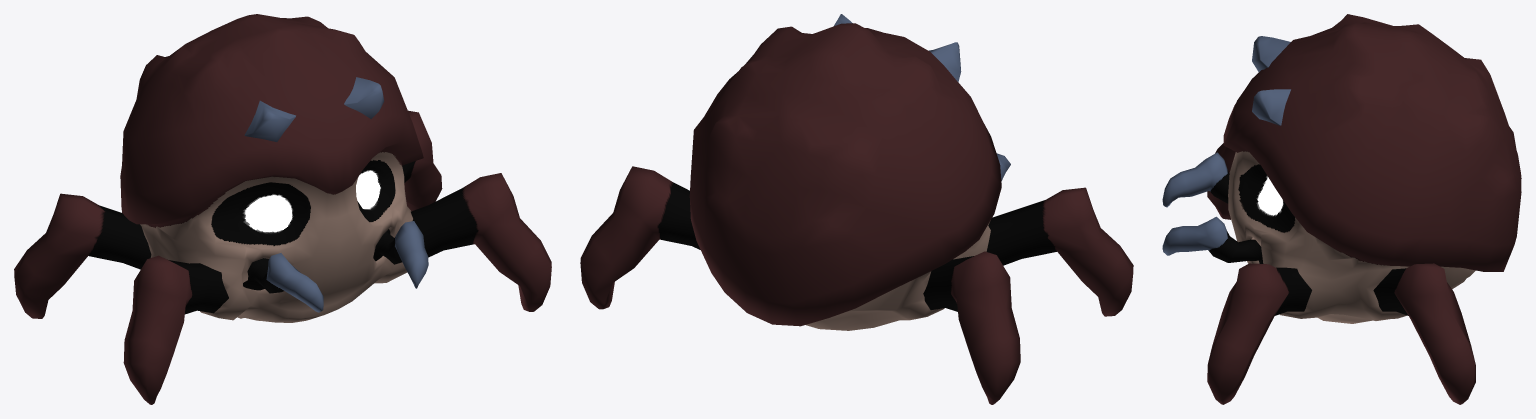
File: Crab.fbx
The picture shows the model from 3 angles, left to right: view 1: azimuth 30°, elevation 25°; view 2: azimuth 150°, elevation 25°; view 3: azimuth 270°, elevation 25°; orthographic projection. The views are drawn at different scales.
Visible parts, largest first — view 1: Low Poly; view 2: Low Poly; view 3: Low Poly.
Boxes of the visible parts, x1,y1,x2,y2 form: Low Poly: [14, 14, 551, 404]; Low Poly: [580, 14, 1133, 404]; Low Poly: [1162, 14, 1521, 404].
Bounding box in the file's own units: 309 × 198 × 228.
